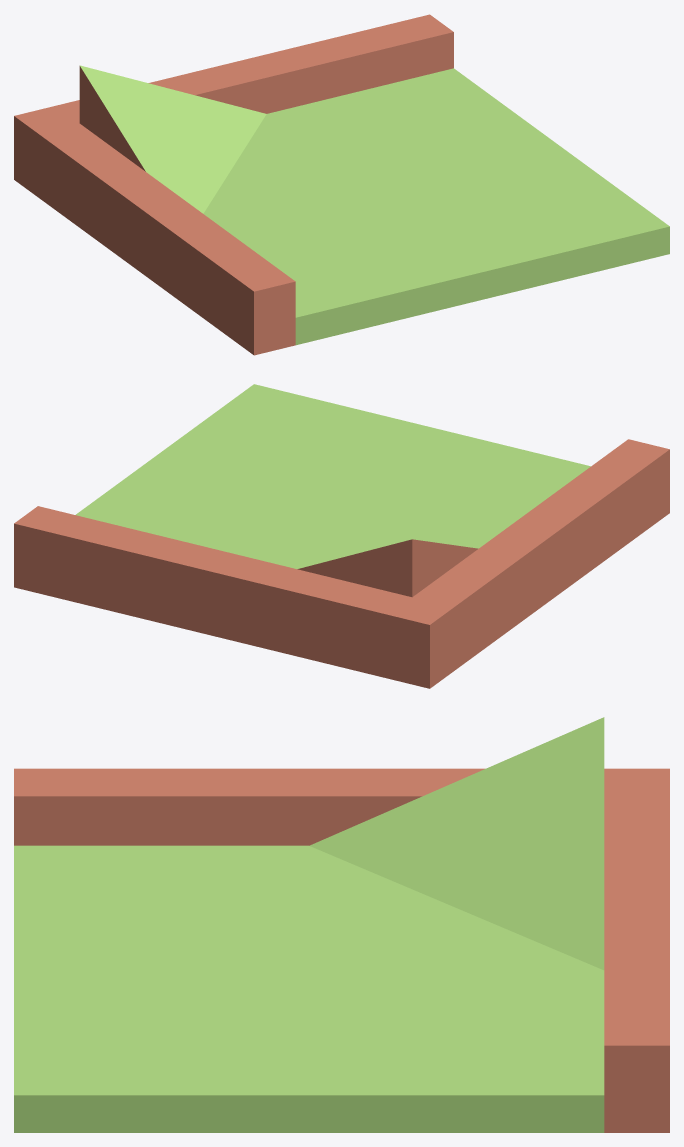
The model's file is Hill_corner_01.glb.
The picture shows the model from 3 angles, top to bottom: view 1: azimuth 30°, elevation 25°; view 2: azimuth 150°, elevation 25°; view 3: azimuth 270°, elevation 25°; orthographic projection. The views are drawn at different scales.
Visible parts, largest first — view 1: Mesh1 Hill_corner Model; view 2: Mesh1 Hill_corner Model; view 3: Mesh1 Hill_corner Model.
Part boxes in pixels (<box>): Mesh1 Hill_corner Model: <box>14,14,669,355</box>; Mesh1 Hill_corner Model: <box>14,384,669,688</box>; Mesh1 Hill_corner Model: <box>14,717,669,1132</box>.
Size of the model in its own units: 3 by 0.84 by 3.
